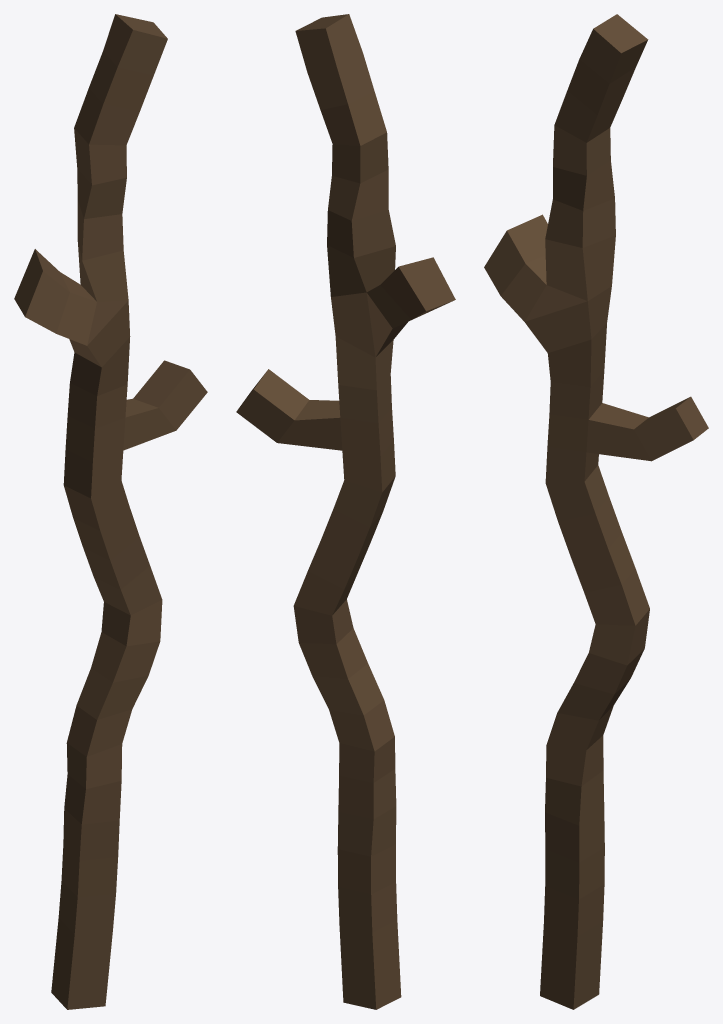
Rendered from stick2.fbx.
3 views of the same model, side by side, from view 1: azimuth 30°, elevation 25°; view 2: azimuth 150°, elevation 25°; view 3: azimuth 330°, elevation 25° (orthographic). The views are drawn at different scales.
Parts seen in each view (by area): view 1: Cube.005; view 2: Cube.005; view 3: Cube.005.
Boxes of the visible parts, left/top/right/bottom form: Cube.005: left=14, top=14, right=207, bottom=1009; Cube.005: left=236, top=14, right=455, bottom=1009; Cube.005: left=484, top=14, right=708, bottom=1009.
Size of the model in its own units: 606 by 2898 by 234.
